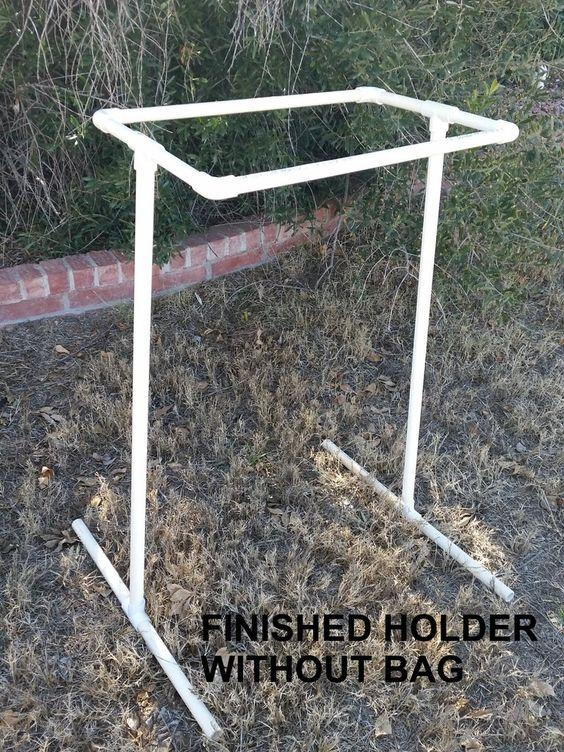PVC: (89, 84, 517, 205), (397, 96, 456, 513), (128, 132, 164, 614)
